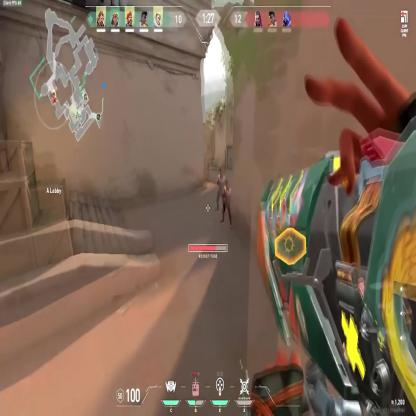enemy: (221, 177, 232, 228)
enemy_head: (225, 180, 228, 187)
